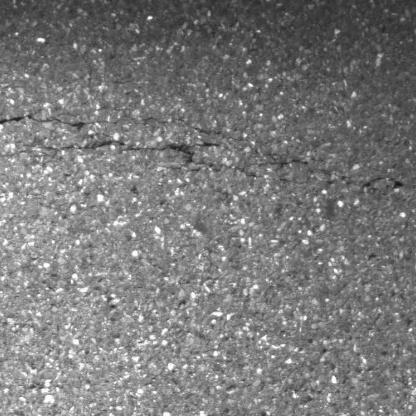Cracks: (0, 111, 314, 190), (365, 174, 416, 195)
